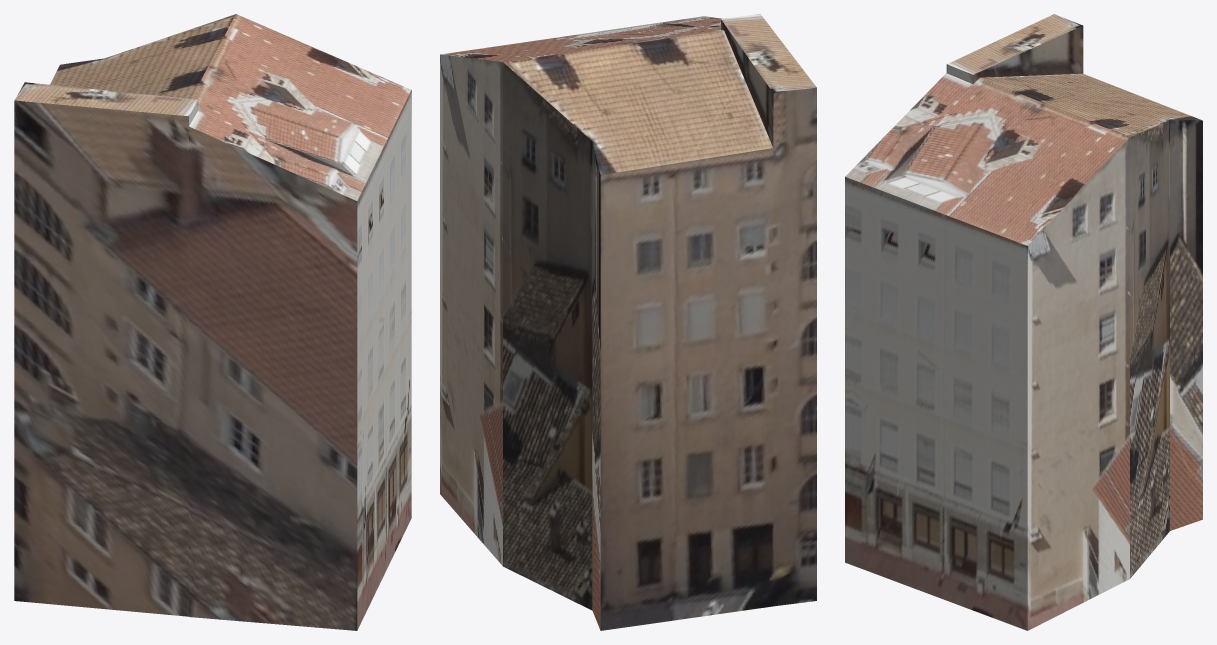
3 views of the same model, side by side, from view 1: azimuth 30°, elevation 25°; view 2: azimuth 150°, elevation 25°; view 3: azimuth 270°, elevation 25° (orthographic). The views are drawn at different scales.
Visible parts, largest first — view 1: Z_UP; view 2: Z_UP; view 3: Z_UP.
Part boxes in pixels (left/top/right/bottom): Z_UP: left=14, top=14, right=411, bottom=630; Z_UP: left=440, top=14, right=816, bottom=630; Z_UP: left=845, top=14, right=1202, bottom=630.
Size of the model in its own units: 21 by 26.28 by 18.96.
Materials: 2 (1 with a texture image).
